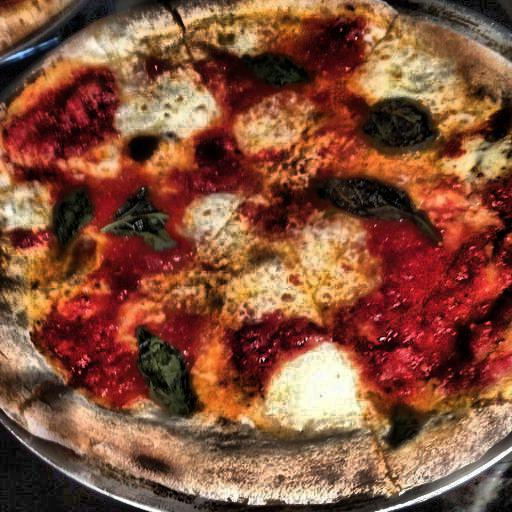pizza: (2, 18, 512, 512)
